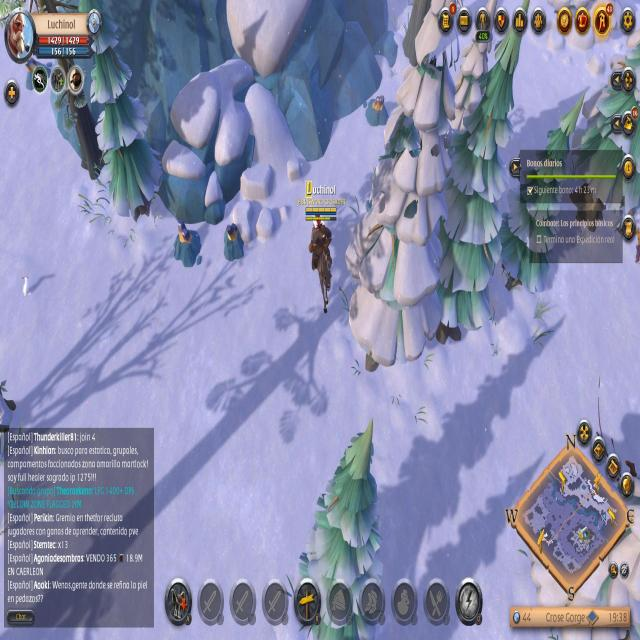piedra_cobre: (174, 222, 202, 269), (223, 224, 246, 262), (366, 95, 388, 127)
